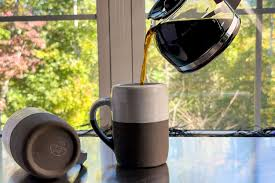mug: (69, 75, 176, 171)
